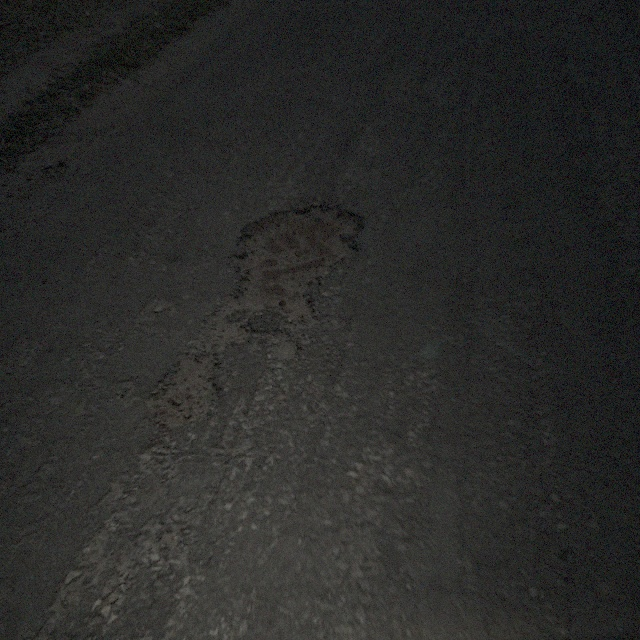pothole: (227, 198, 365, 319), (142, 351, 220, 429)
